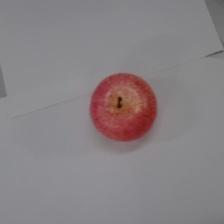red: (89, 70, 158, 143)
